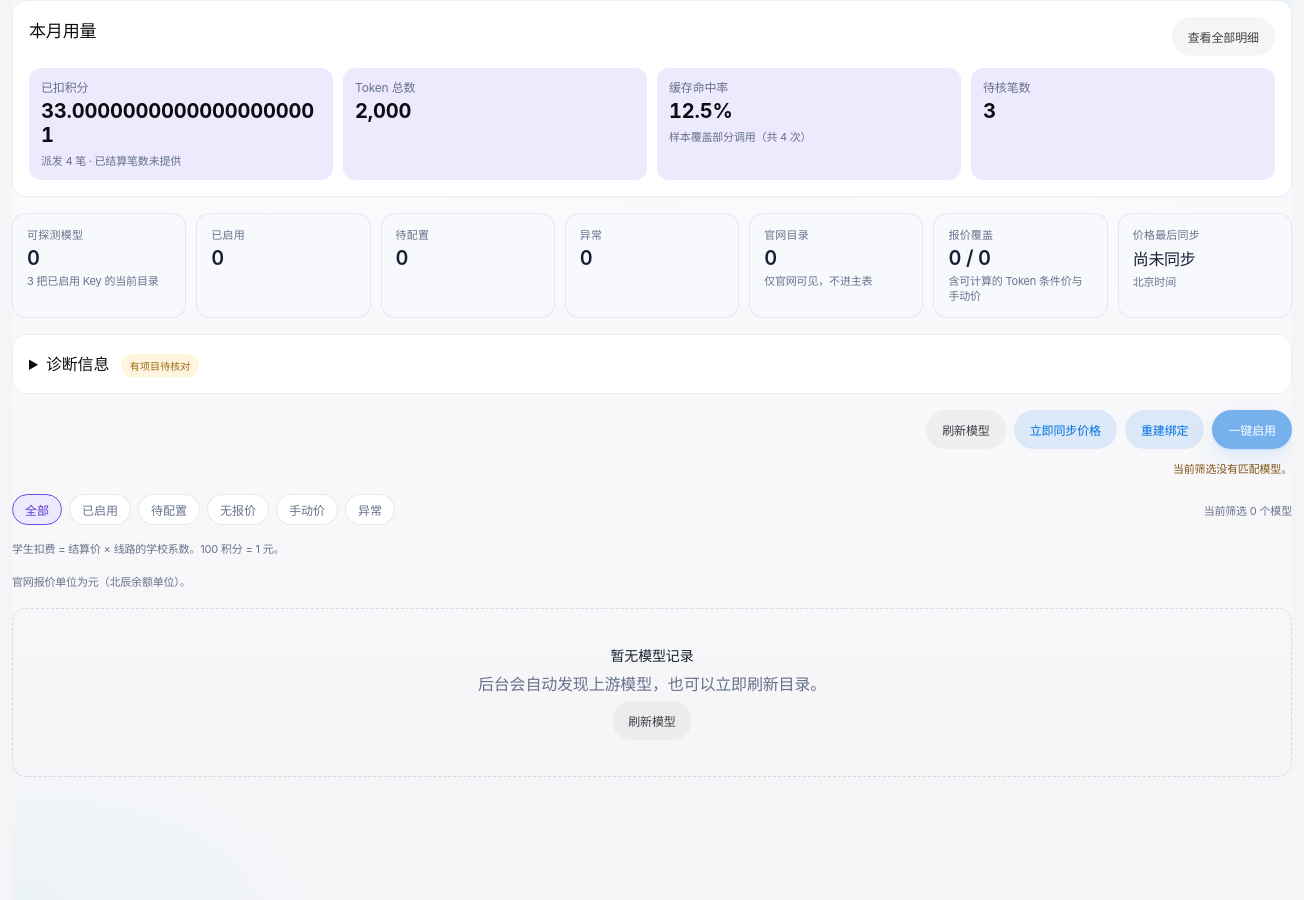
Test case: 北辰模型管理 › 概况按已启用的校内 Key 计数，目录为空也能显示
This screenshot has width=1304, height=900.
What coordinates should you click on to do the following:
click the 1st button "刷新模型"
I would click on:
 (966, 430)
Its box is [926,410,1006,449].
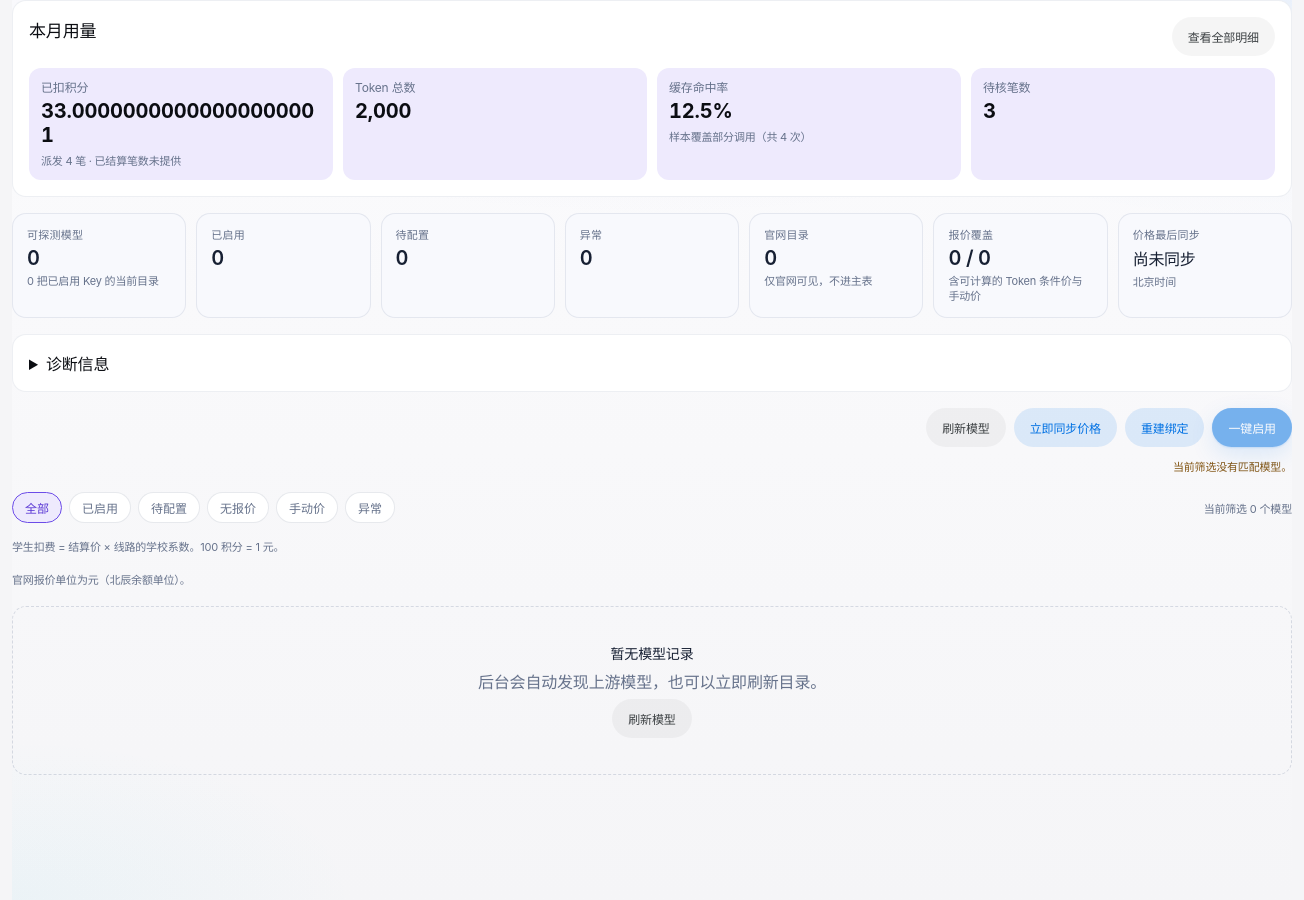
Result: the element with class "model-summary" shows "0 把已启用 Key 的当前目录" at [27,274,159,288]
